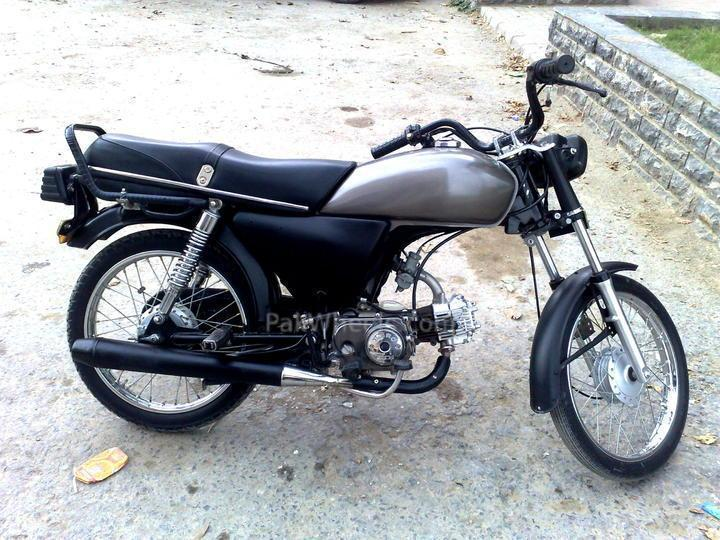motorcycle: (1, 24, 714, 492)
